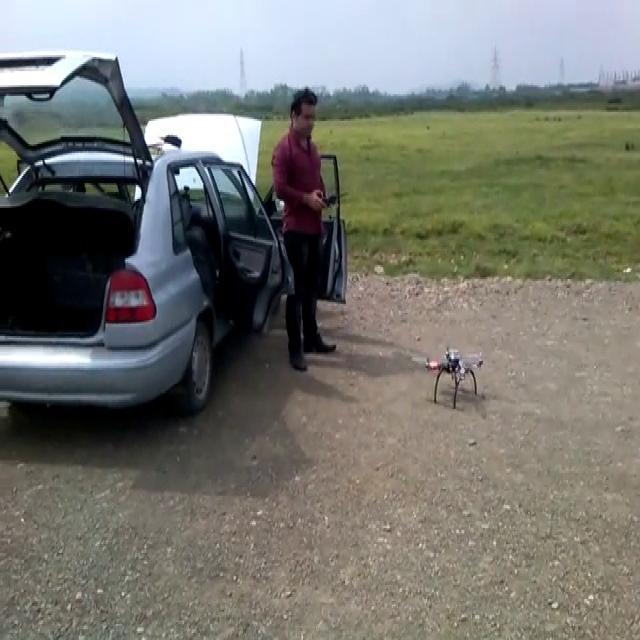drone: (416, 341, 486, 407)
